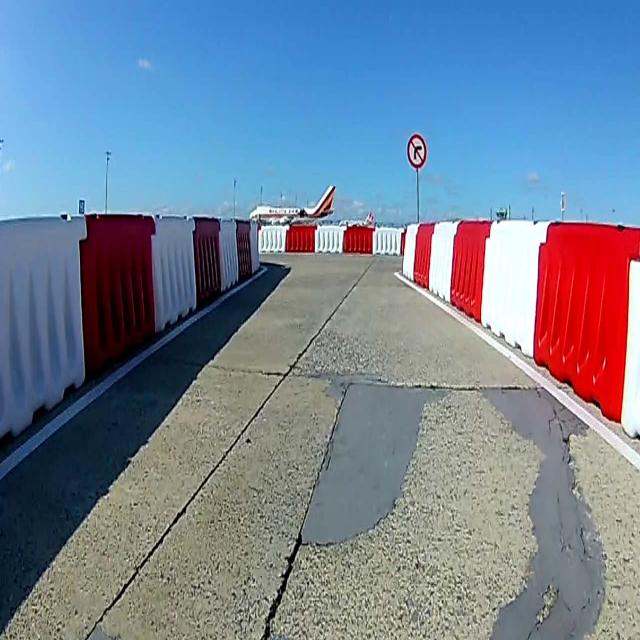sagadonulmez: (407, 133, 427, 167)
